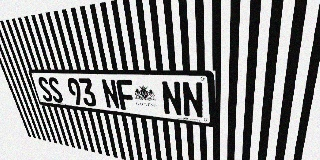3: (78, 78, 97, 107)
9: (66, 78, 85, 106)
F: (115, 79, 136, 111)
N: (181, 81, 204, 119), (160, 81, 183, 116), (100, 79, 121, 110)
S: (46, 77, 64, 103), (36, 77, 54, 102)
